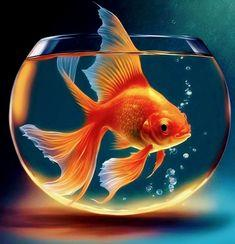goldfish: (41, 34, 198, 184)
